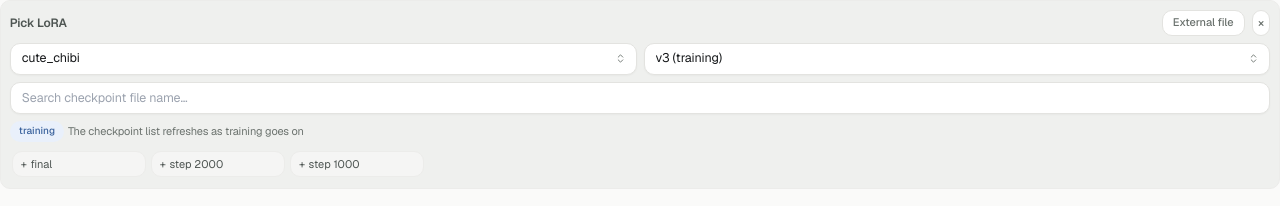
Test: InlineLoraPicker — multi mode (default) › search filters chip list
The image size is (1280, 206).
Expected: the text "step 2000" is shown, [170,157,223,171]
Type "2000" into the field with placeholder "Search checkpoint file name…" at (640, 98), box [10,82,1270,114]
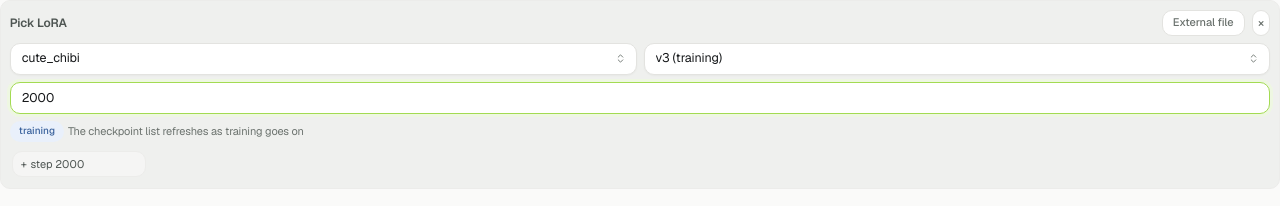
Expected: the text "step 2000" is shown, [30,157,84,171]
Expected: the button "final" is gone
Expected: the button "step 1000" is gone
